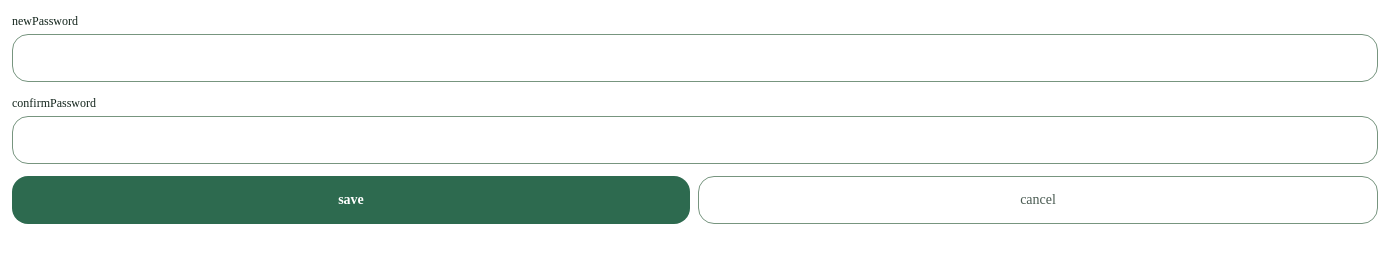
it: refuses two passwords that do not match
Type "long-enough-1" into the password field labelled "newPassword" at (695, 58), box left=12, top=34, right=1378, bottom=82
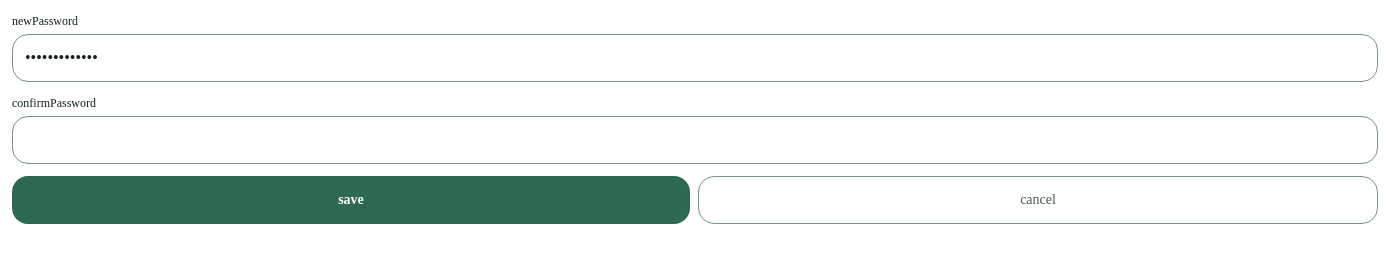
Type "long-enough-2" into the password field labelled "confirmPassword" at (695, 140), box left=12, top=116, right=1378, bottom=164
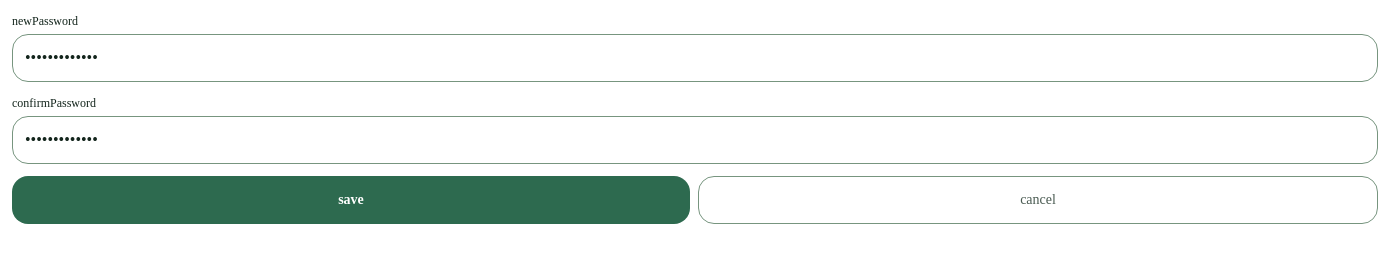
Click the button "save" at (351, 200), box left=12, top=176, right=690, bottom=224
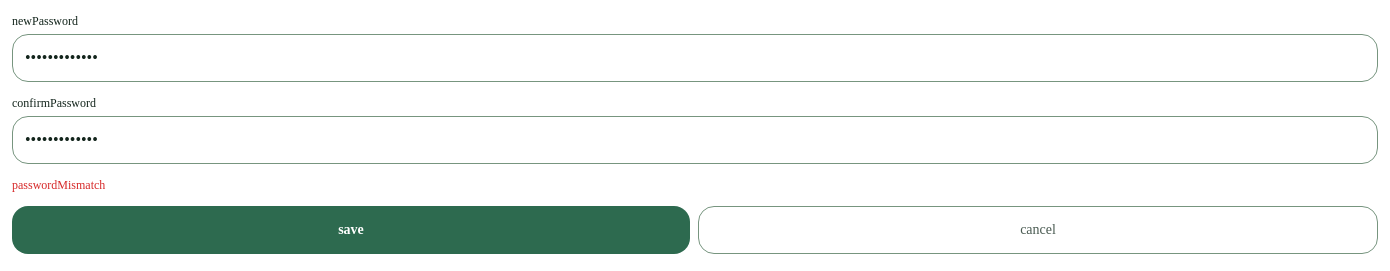
Check: the message reads "passwordMismatch", box left=12, top=178, right=105, bottom=192
